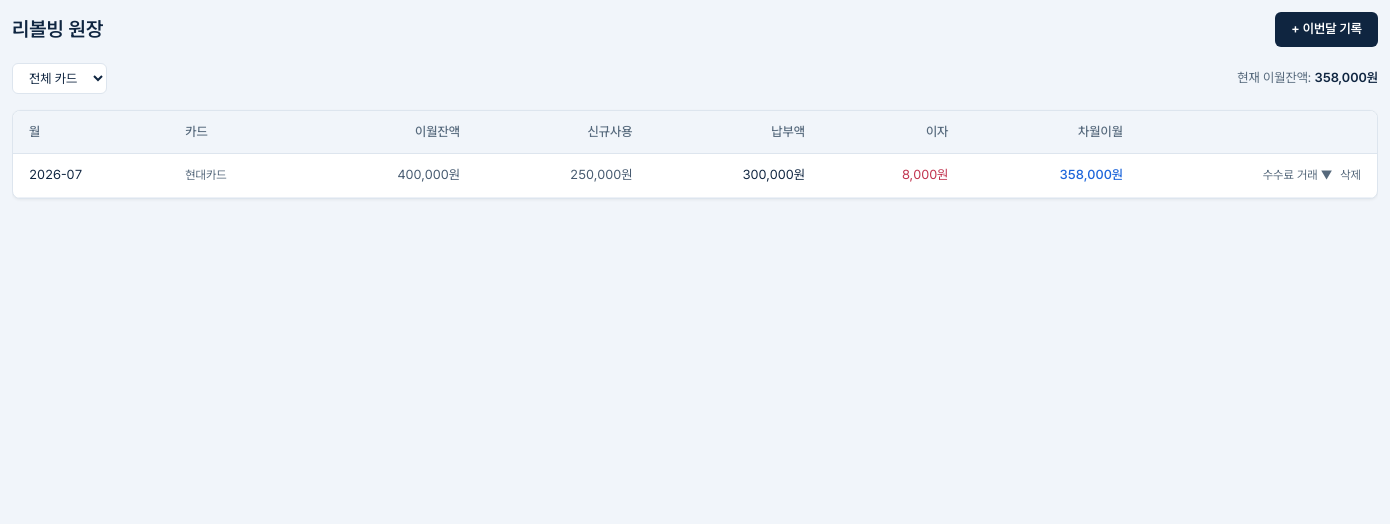
Test: 월 기록 등록 › 저장이 실패하면 폼 안에 사유를 띄우고 닫지 않는다
Click the button "+ 이번달 기록" at (1327, 29), box [1275, 12, 1378, 47]
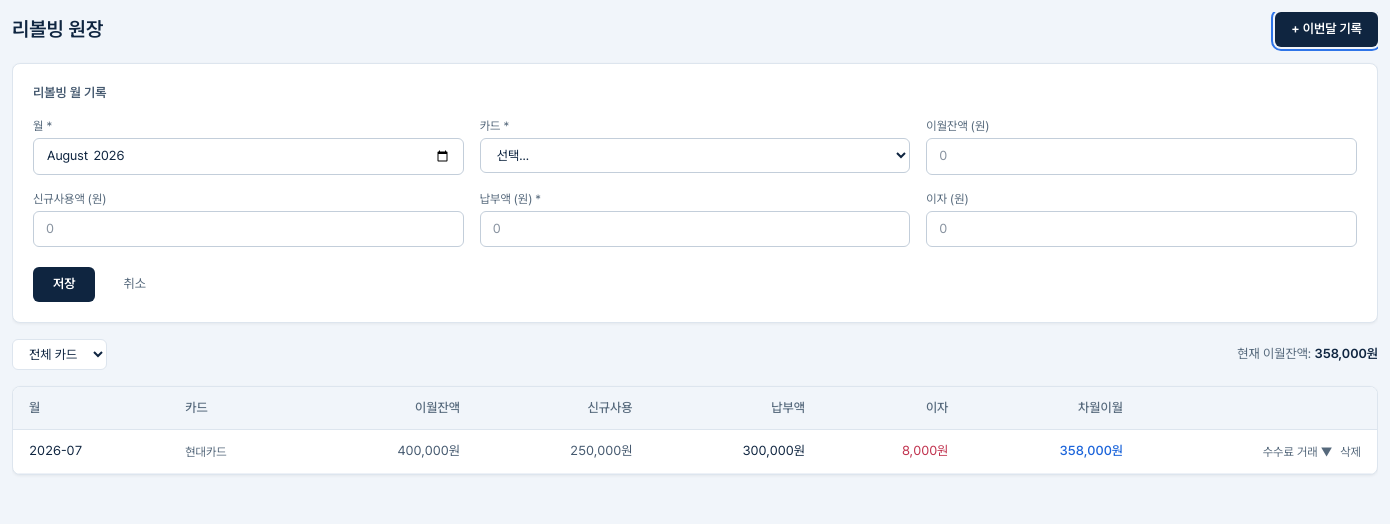
Select "현대카드" in the dropdown labelled "카드 *" at (695, 156), box [480, 138, 910, 173]
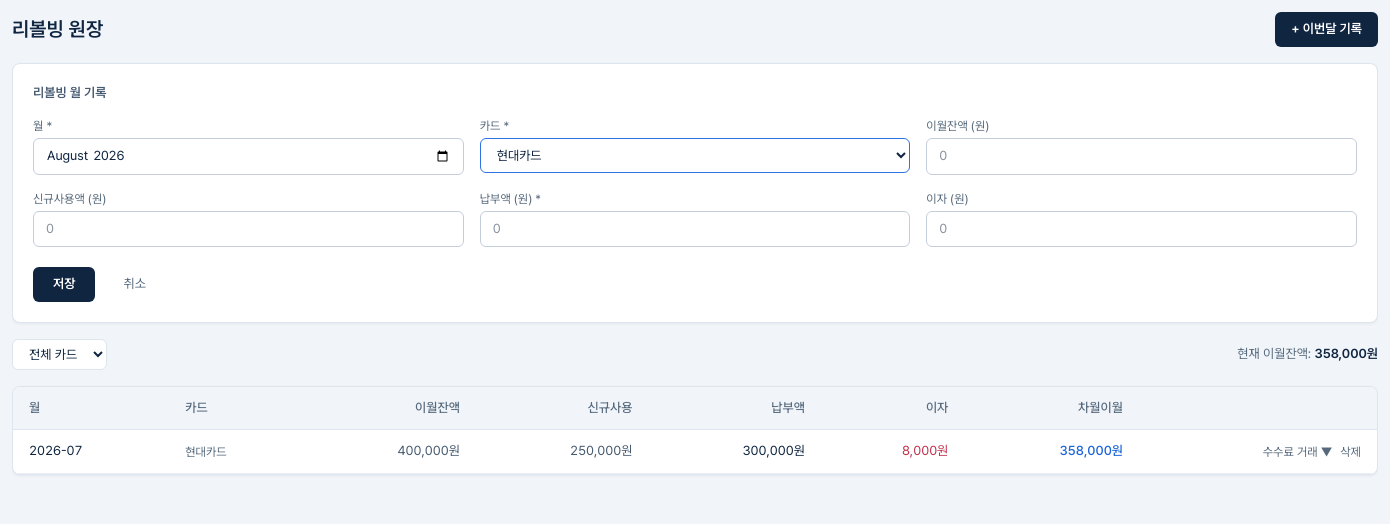
Type "100000" into the number field labelled "납부액 (원) *" at (695, 229), box [480, 211, 910, 247]
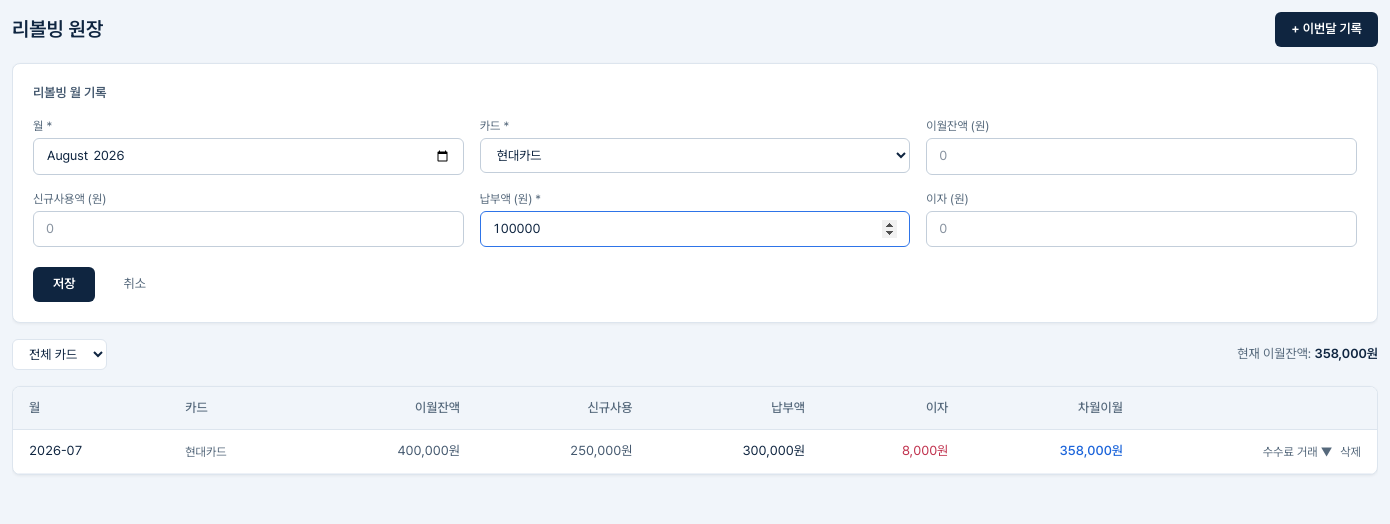
Click the button "저장" at (64, 285), box [33, 267, 96, 302]
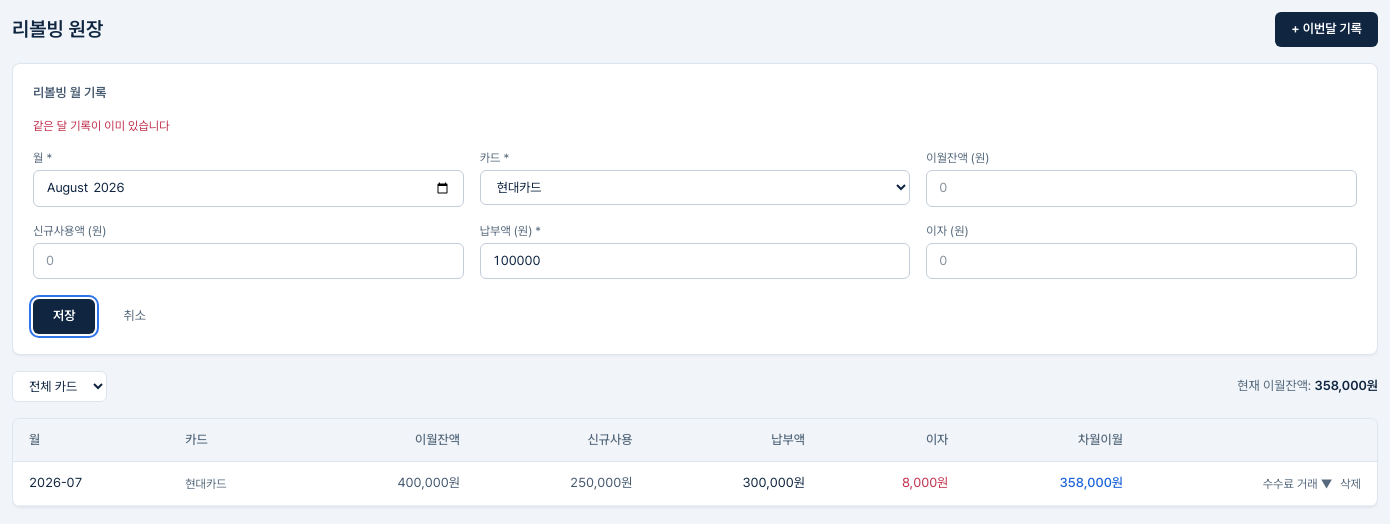
Expected: the heading "리볼빙 월 기록" is shown, [33, 85, 107, 100]
Expected: the text "같은 달 기록이 이미 있습니다" is shown, [33, 119, 170, 133]
